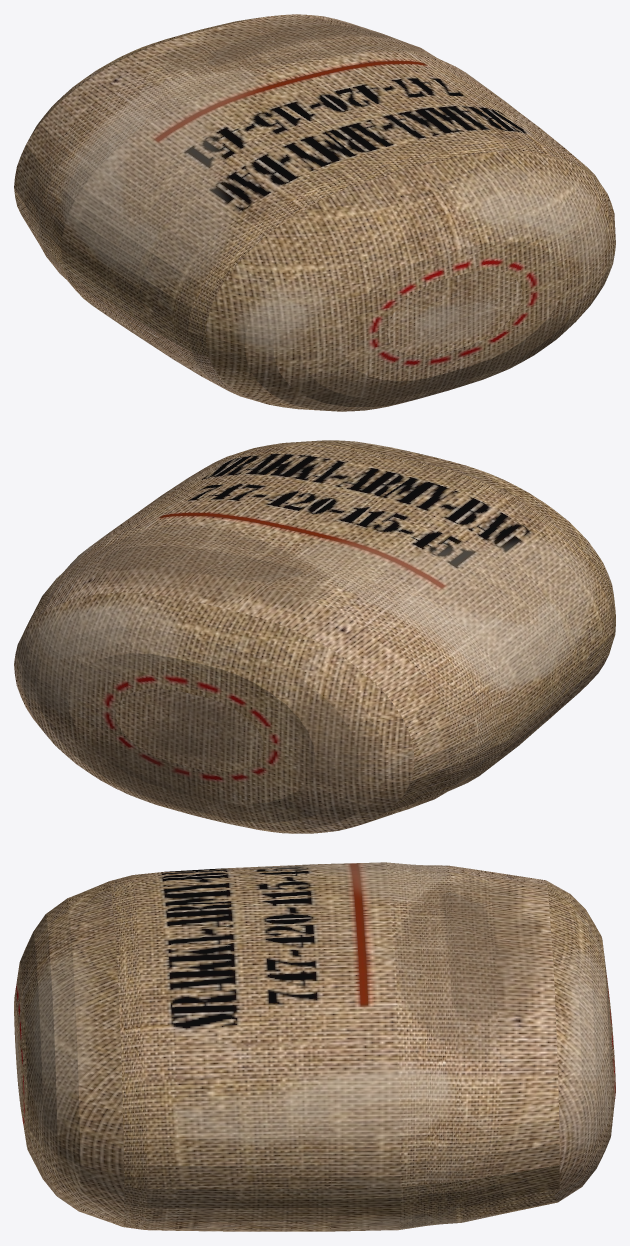
The model's file is sacDeSable02.fbx.
3 views of the same model, one above another, from view 1: azimuth 30°, elevation 25°; view 2: azimuth 150°, elevation 25°; view 3: azimuth 270°, elevation 25° (orthographic). The views are drawn at different scales.
Parts seen in each view (by area): view 1: Cylinder.020; view 2: Cylinder.020; view 3: Cylinder.020.
Boxes of the visible parts, bbox=[...] form: Cylinder.020: bbox=[14, 14, 615, 411]; Cylinder.020: bbox=[14, 440, 615, 833]; Cylinder.020: bbox=[14, 862, 615, 1231].
Bounding box in the file's own units: 42.13 × 21.74 × 44.18.
